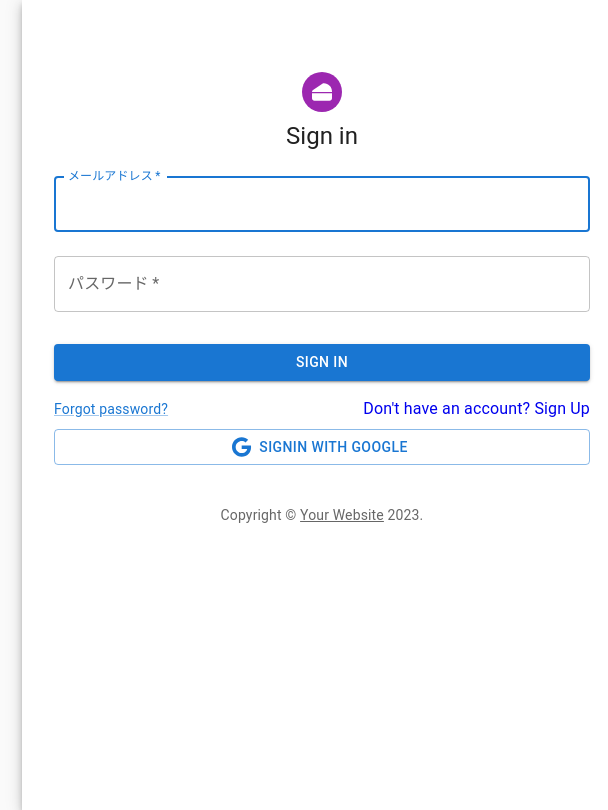
it: ログイン画面 › パスワード入力 › 桁数チェック - 8桁未満の場合、エラー
In the password field labelled "パスワード *": (322, 284) [54, 256, 590, 312], type "a123"
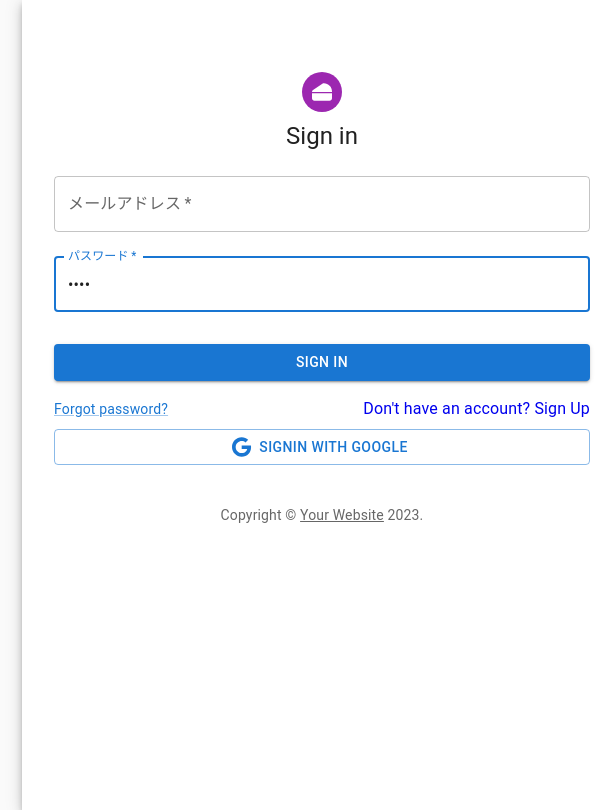
Click the button "Sign In": (322, 362) [54, 344, 590, 380]
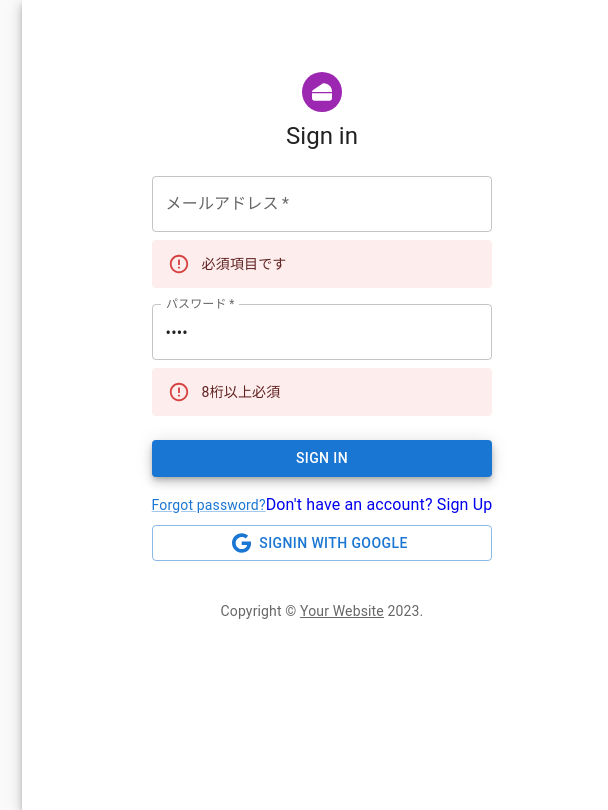
expect the text "8桁以上必須" is shown: met, box [202, 384, 280, 400]
